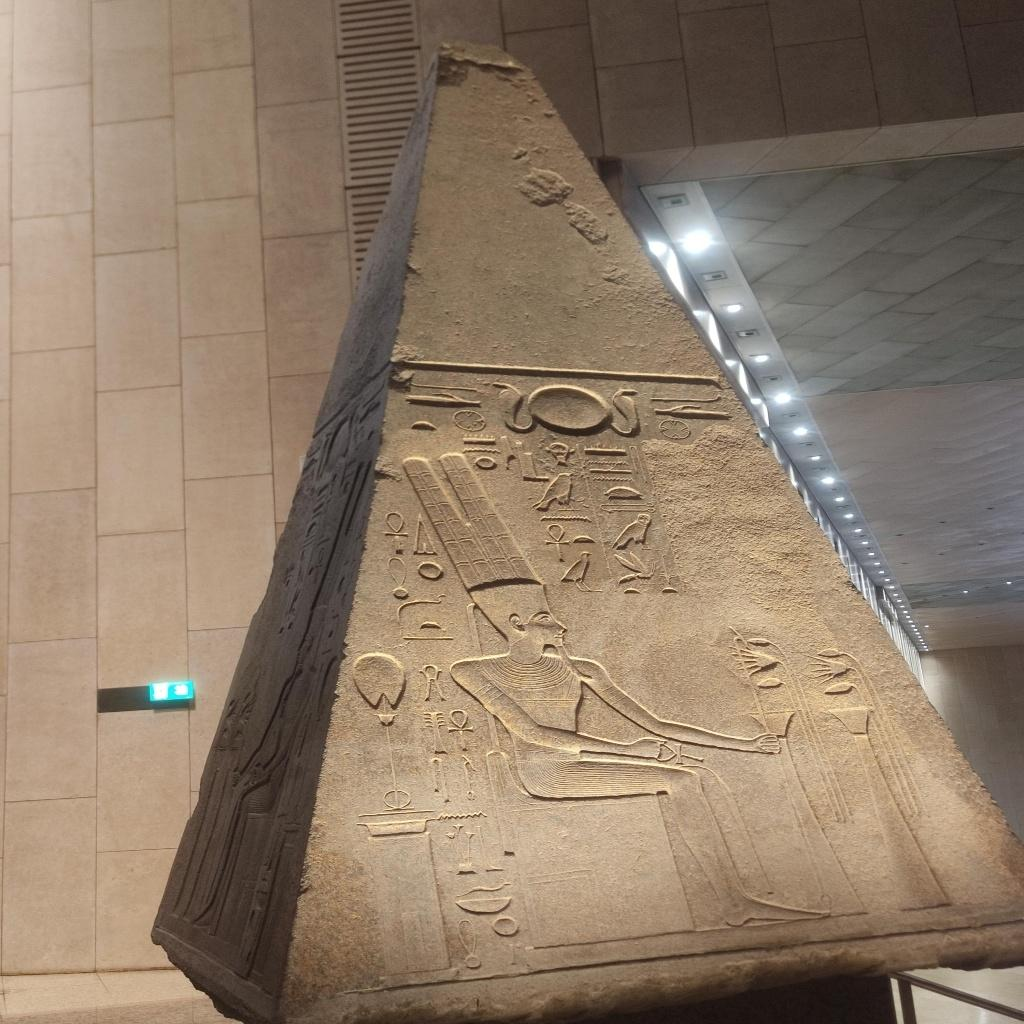Obelsik Tip of Hatshepsut: (147, 41, 1024, 998)
